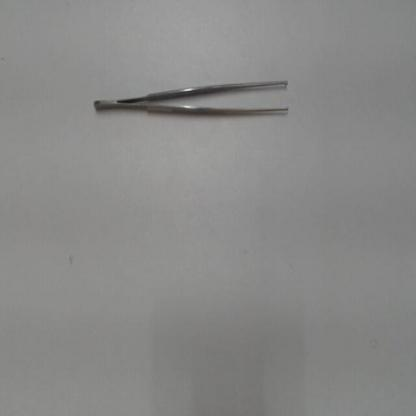Gillies Toothed Dissector: (77, 71, 297, 129)
